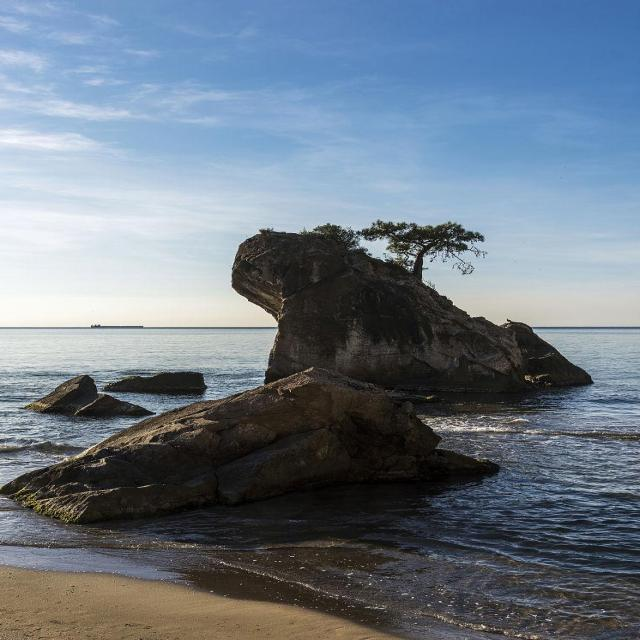reef: (18, 216, 592, 522)
